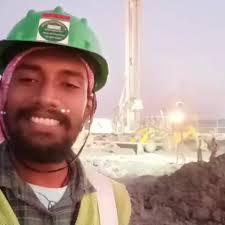helmet: (1, 5, 109, 90)
